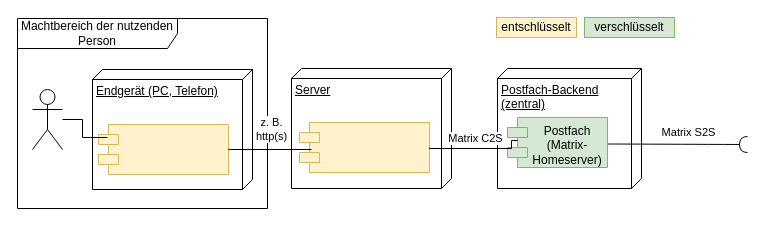
This 766x226 diagram has some shape labels left out. The shapes that lost their labels are listed below. From the top down, each one's centre as x and y in pixels, then its label:
(x=47, y=119): Nutzende Person
(x=163, y=149): Postfach-Zugang (UI)
(x=364, y=147): Postfach-Zugang (Matrix-Client)
